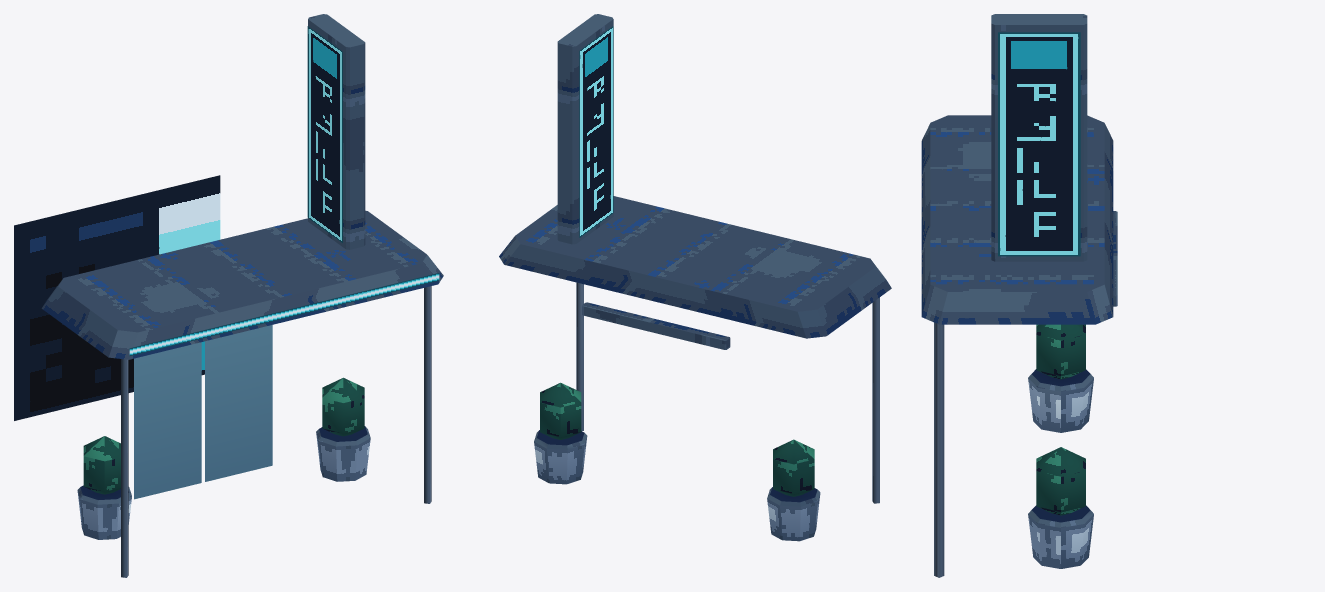
File: cysign.hotel.glb
The picture shows the model from 3 angles, left to right: view 1: azimuth 30°, elevation 25°; view 2: azimuth 150°, elevation 25°; view 3: azimuth 270°, elevation 25°; orthographic projection. The views are drawn at different scales.
Visible parts, largest first — view 1: kit_card_cards, kit_canopy, kit_posts; view 2: kit_canopy, kit_posts, kit_card_cards; view 3: kit_canopy, kit_card_cards, kit_posts.
Boxes of the visible parts, box(x1,y1,x2,y2) form: kit_card_cards: box(14, 26, 439, 499); kit_canopy: box(41, 14, 443, 539); kit_posts: box(83, 286, 431, 577); kit_canopy: box(499, 14, 891, 541); kit_posts: box(540, 282, 879, 503); kit_card_cards: box(579, 26, 613, 237); kit_canopy: box(921, 14, 1117, 568); kit_card_cards: box(998, 32, 1080, 256); kit_posts: box(934, 322, 1085, 577).
Bounding box in the file's own units: 5.2 × 6.7 × 4.49.
11 materials, 9 textured.
